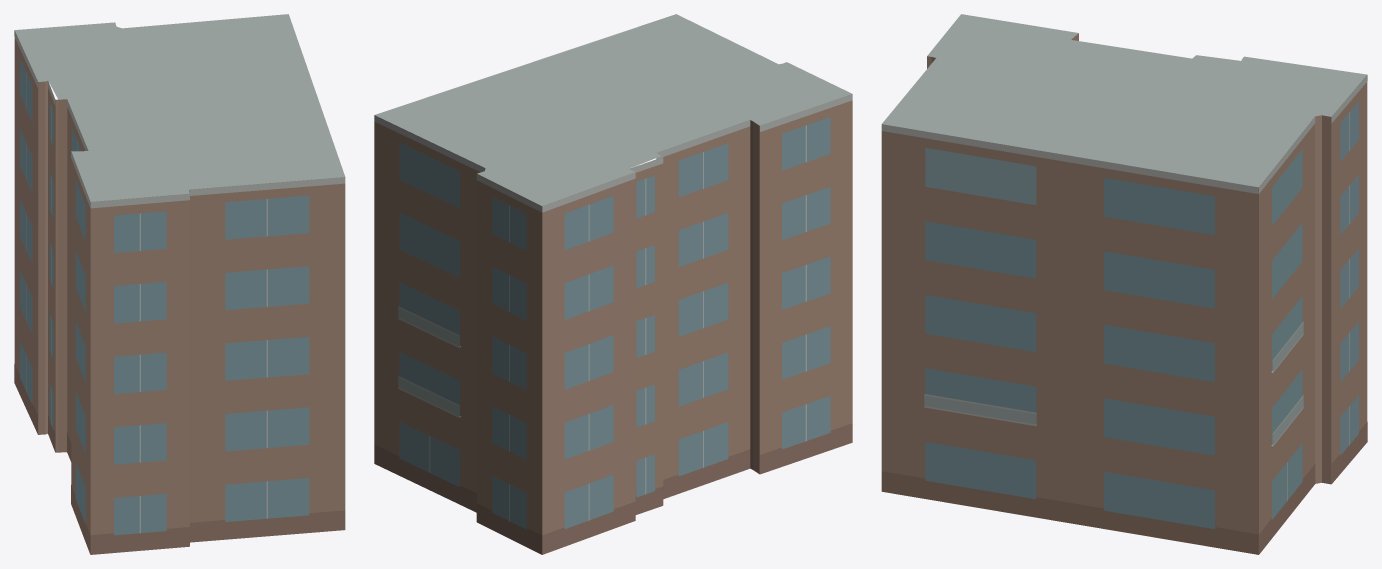
The model's file is survey-upis-32884270.glb.
The picture shows the model from 3 angles, left to right: view 1: azimuth 30°, elevation 25°; view 2: azimuth 150°, elevation 25°; view 3: azimuth 270°, elevation 25°; orthographic projection. The views are drawn at different scales.
Parts seen in each view (by area): view 1: survey-upis-32884270.tmp; view 2: survey-upis-32884270.tmp; view 3: survey-upis-32884270.tmp.
Boxes of the visible parts, x1,y1,x2,y2 form: survey-upis-32884270.tmp: [14, 14, 345, 554]; survey-upis-32884270.tmp: [374, 14, 852, 554]; survey-upis-32884270.tmp: [881, 14, 1367, 554].
Bounding box in the file's own units: 13.36 × 13.2 × 15.82.
